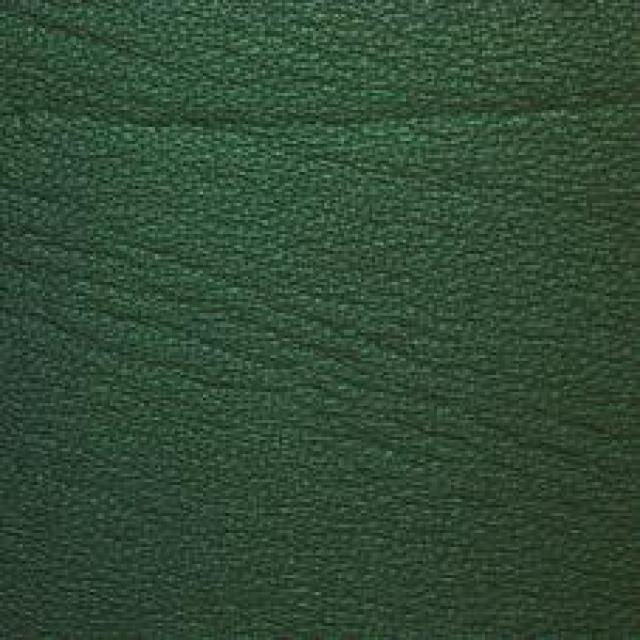Growth Marks: (137, 254, 468, 428), (130, 70, 560, 154)
